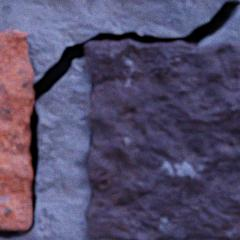brick: (84, 39, 239, 239), (0, 30, 33, 229)
crack: (0, 0, 239, 239)
